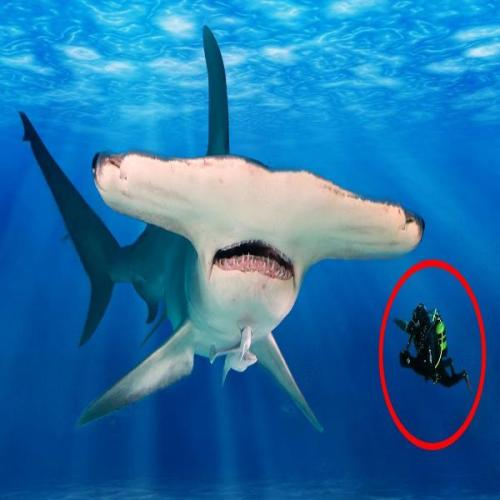shark-endangered: (19, 25, 426, 434)
